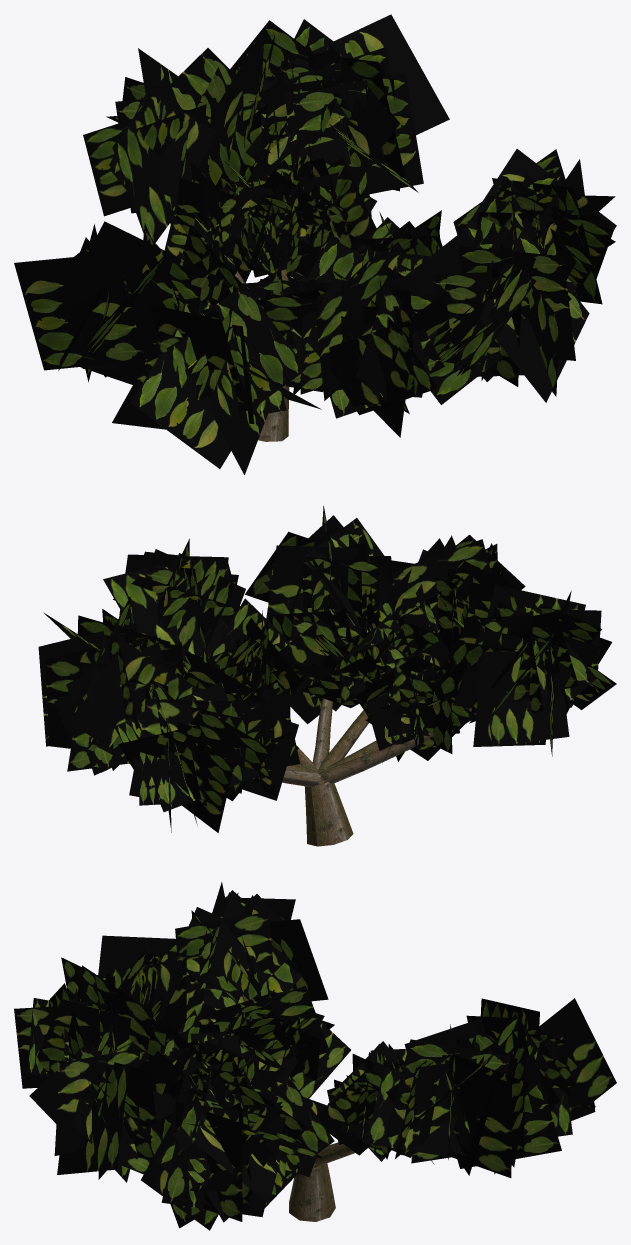
The model's file is fig_4.glb.
3 views of the same model, one above another, from view 1: azimuth 30°, elevation 25°; view 2: azimuth 150°, elevation 25°; view 3: azimuth 270°, elevation 25° (orthographic). The views are drawn at different scales.
Visible parts, largest first — view 1: fig; view 2: fig; view 3: fig.
Boxes of the visible parts, box(x1,y1,x2,y2) form: fig: box(14, 14, 616, 474); fig: box(38, 506, 616, 846); fig: box(14, 882, 616, 1230).
Bounding box in the file's own units: 11.37 × 5.76 × 12.43.
Materials: 2 (2 with a texture image).
